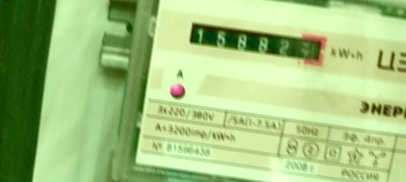1: (193, 25, 204, 43)
2: (276, 36, 288, 55)
5: (213, 28, 226, 46)
7: (297, 46, 308, 58)
8: (255, 34, 267, 53), (234, 32, 246, 50)
screen: (179, 12, 331, 71)
